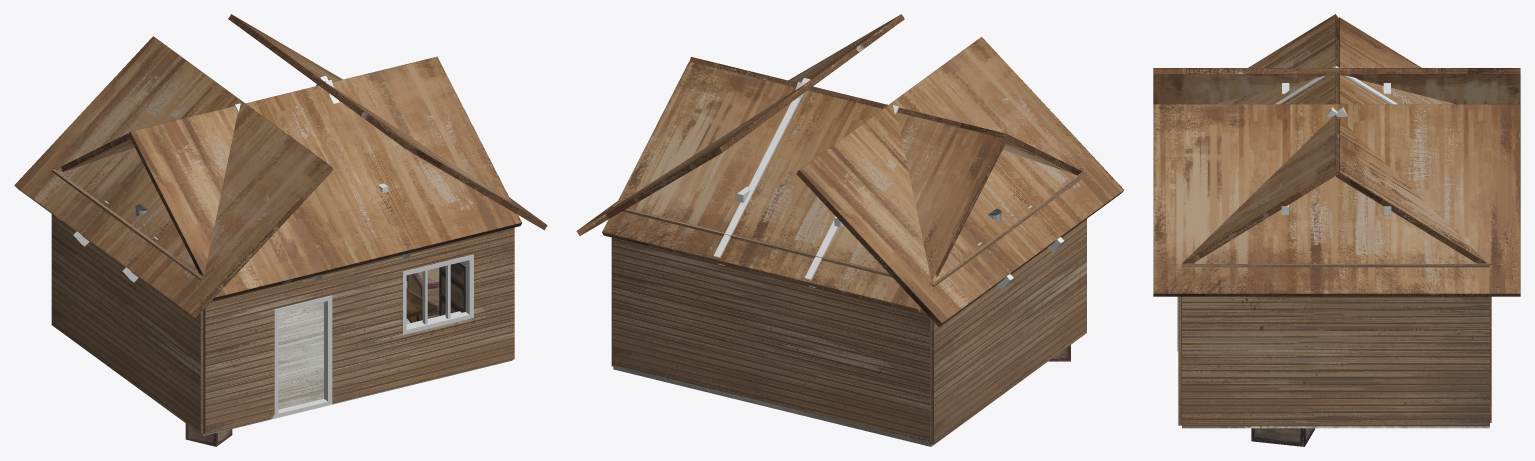
Rendered from antarctica.fbx.
3 renders of one model, left to right at view 1: azimuth 30°, elevation 25°; view 2: azimuth 150°, elevation 25°; view 3: azimuth 270°, elevation 25°, orthographic. The views are drawn at different scales.
Visible parts, largest first — view 1: Roof.001, Roof.004, Wall.002, Wall, Ground, Roof.003, Cube.006, Cube.008, Box.004, Box, Roof.002, Box.005 (+1 smaller); view 2: Roof.002, Wall.001, Roof.004, Wall, Roof.003, Roof.001, Ground, Beam.009, Beam.005; view 3: Roof.003, Wall.003, Roof.001, Roof.004, Roof.002, Box, Ground, Wall.002, Beam.005.
Boxes of the visible parts, x1=… form: Roof.001: x1=128, y1=56, x2=521, y2=300; Roof.004: x1=14, y1=36, x2=333, y2=318; Wall.002: x1=203, y1=207, x2=514, y2=434; Wall: x1=51, y1=169, x2=203, y2=433; Ground: x1=201, y1=281, x2=512, y2=435; Roof.003: x1=228, y1=14, x2=547, y2=230; Cube.006: x1=402, y1=254, x2=473, y2=334; Cube.008: x1=271, y1=295, x2=332, y2=419; Box.004: x1=439, y1=261, x2=465, y2=315; Box: x1=407, y1=267, x2=439, y2=322; Roof.002: x1=58, y1=133, x2=134, y2=172; Box.005: x1=185, y1=423, x2=232, y2=446; Roof.002: x1=602, y1=61, x2=1006, y2=312; Wall.001: x1=612, y1=204, x2=933, y2=442; Roof.004: x1=796, y1=36, x2=1123, y2=326; Wall: x1=928, y1=172, x2=1086, y2=444; Roof.003: x1=576, y1=14, x2=904, y2=235; Roof.001: x1=689, y1=57, x2=1082, y2=175; Ground: x1=613, y1=365, x2=933, y2=446; Beam.009: x1=713, y1=78, x2=813, y2=265; Beam.005: x1=804, y1=105, x2=901, y2=287; Roof.003: x1=1153, y1=104, x2=1520, y2=296; Wall.003: x1=1182, y1=264, x2=1489, y2=426; Roof.001: x1=1182, y1=14, x2=1338, y2=263; Roof.004: x1=1153, y1=68, x2=1520, y2=104; Roof.002: x1=1336, y1=17, x2=1487, y2=263; Box: x1=1251, y1=428, x2=1315, y2=446; Ground: x1=1182, y1=426, x2=1489, y2=428; Wall.002: x1=1178, y1=296, x2=1181, y2=425; Beam.005: x1=1274, y1=66, x2=1397, y2=104.
Size of the model in its own units: 1395 by 1024 by 1192.
Materials: 26 (22 with a texture image).
